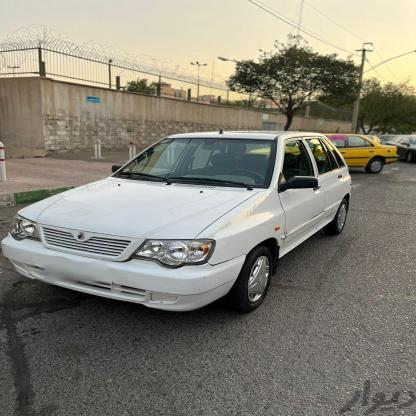Car: (7, 132, 368, 320), (294, 126, 400, 184)
